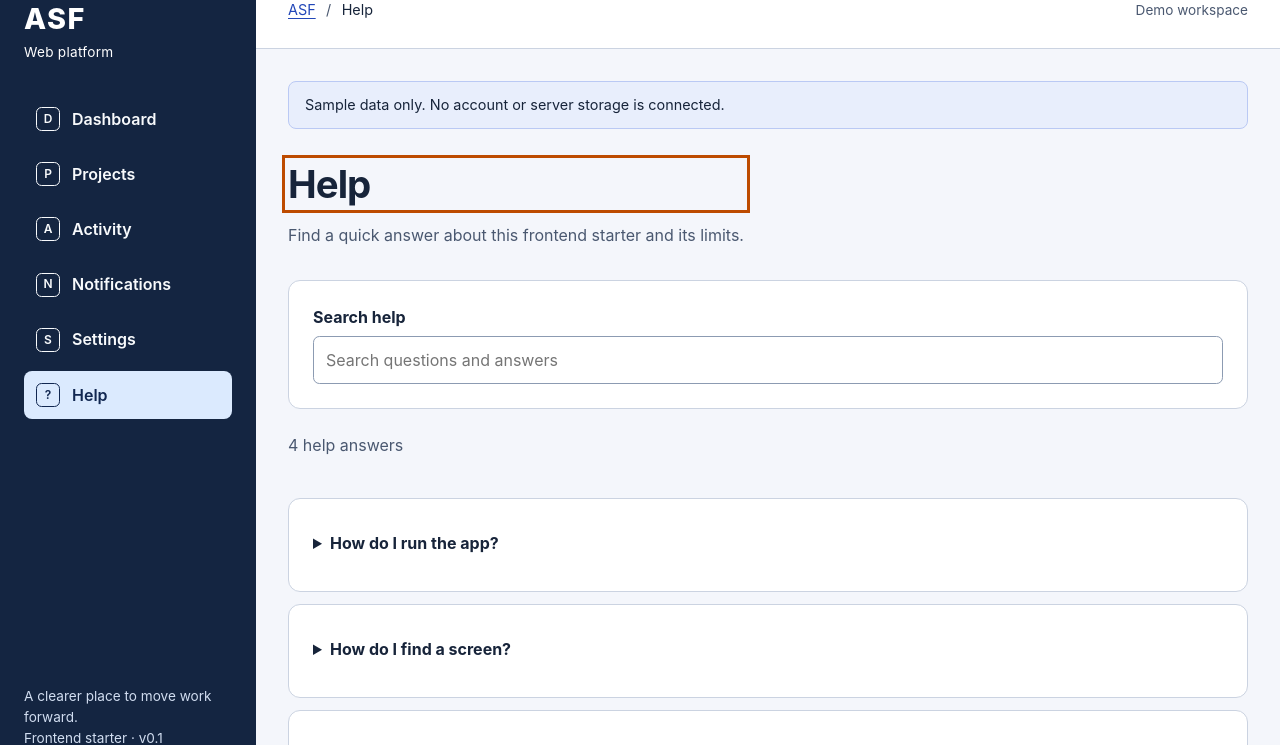
recovers from an empty help search
This screenshot has width=1280, height=745.
Step 1. Type "not-a-help-topic" into the search field labelled "Search help" → (768, 360), box 313,336 -> 1223,384
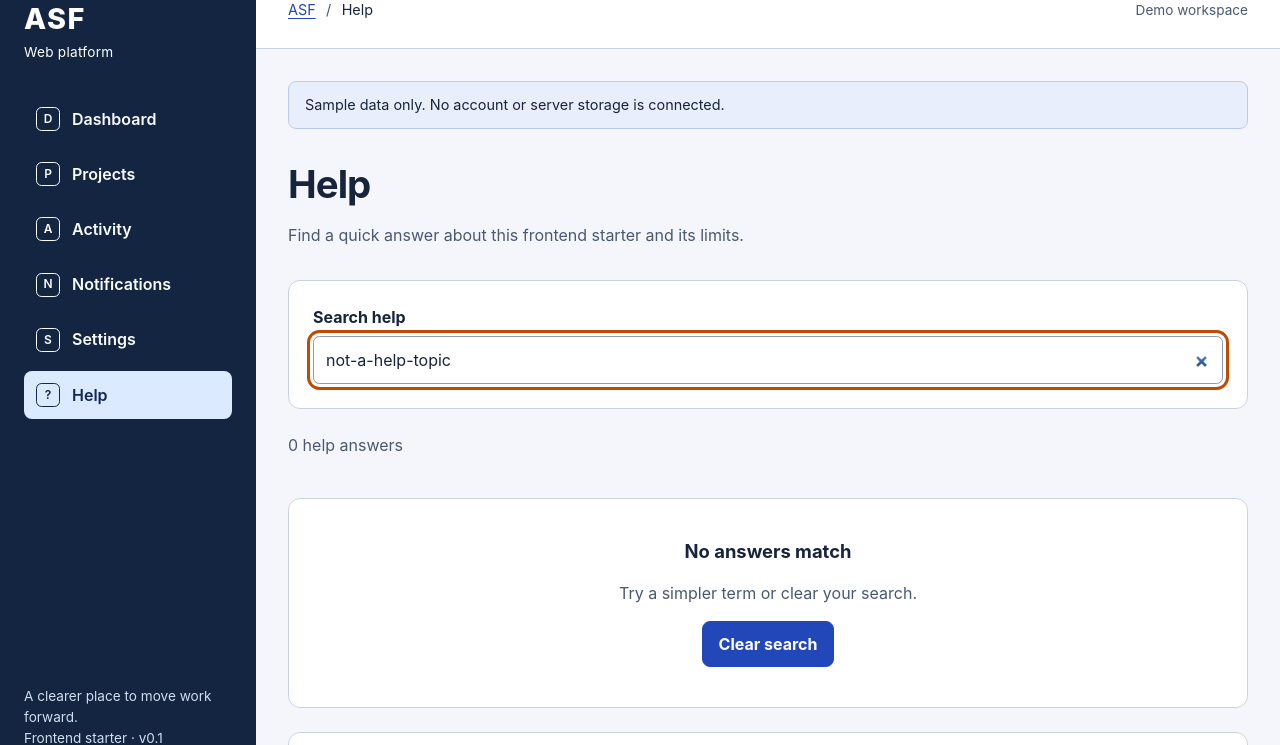
Result: the heading "No answers match" is shown at 685,540 -> 852,562
Step 2. Click the button "Clear search" → click(768, 644), box 702,621 -> 834,666
(page scrolled)
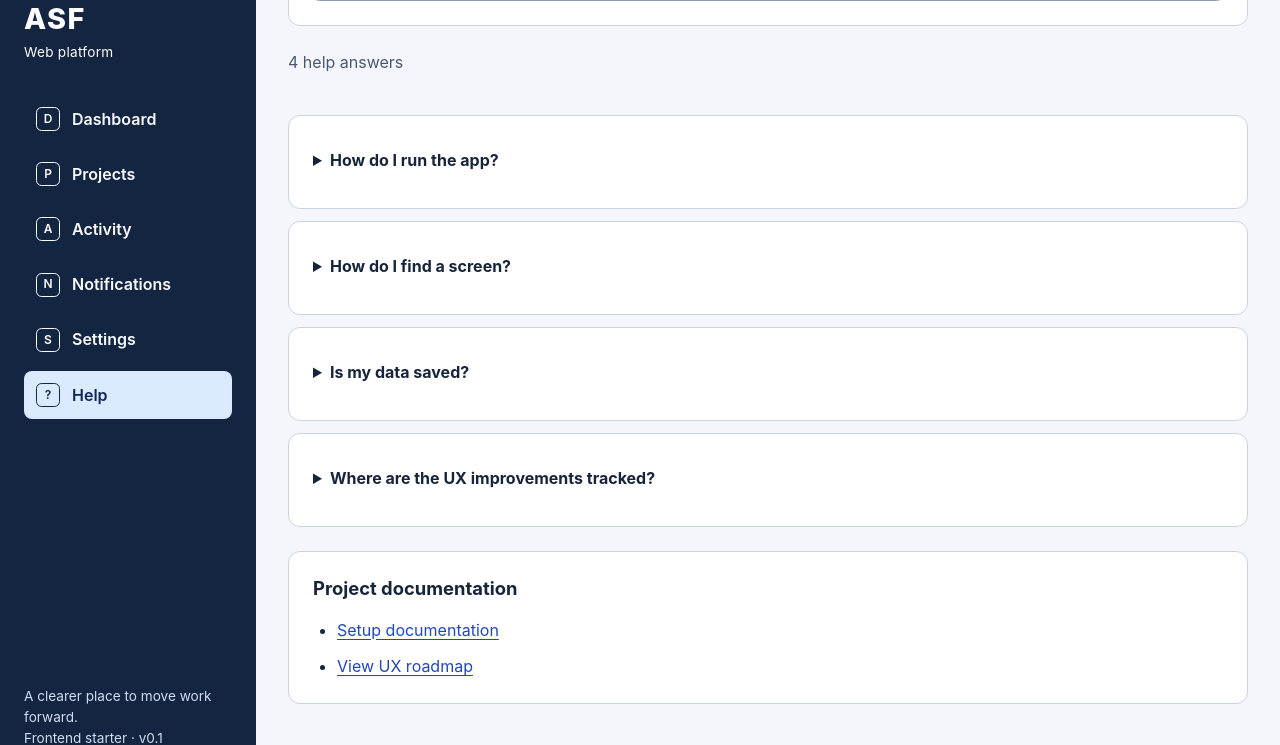
Result: the heading "Is my data saved?" is shown at 330,362 -> 469,382
